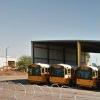Bus: (22, 54, 96, 92)
